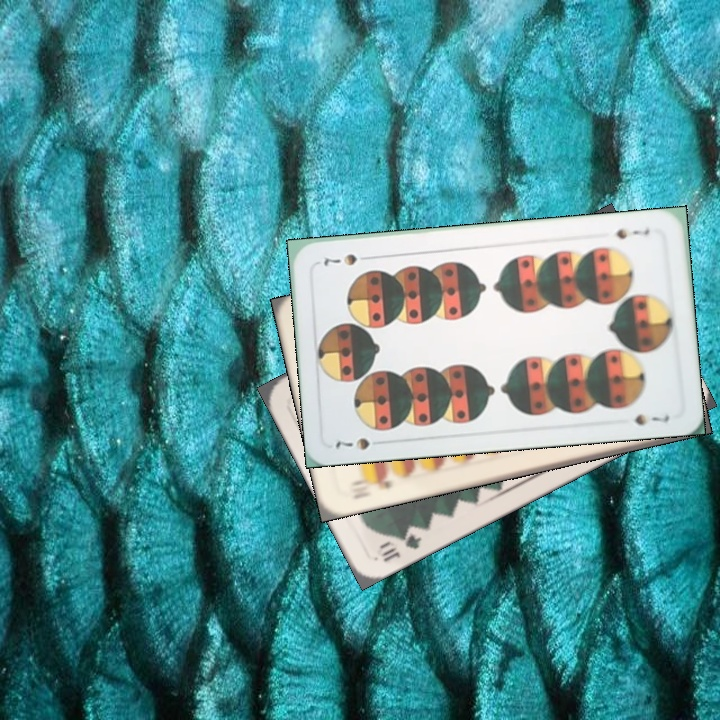E10: (347, 470, 396, 497)
G10: (377, 527, 424, 565)
S7: (331, 433, 372, 453), (612, 224, 652, 242)
